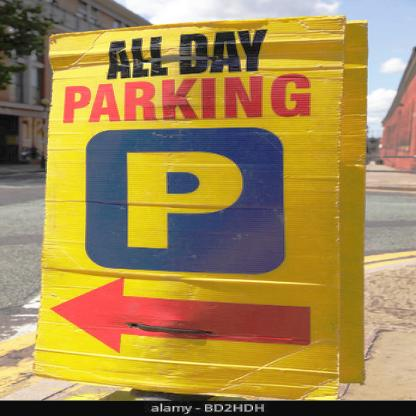Parking: (71, 126, 303, 277)
